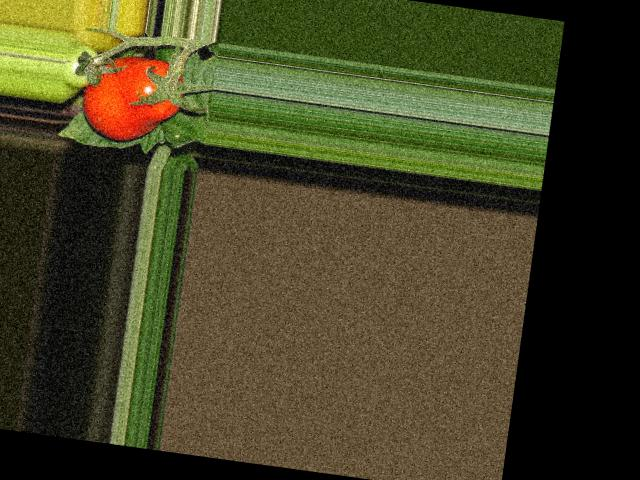tomato: (78, 50, 187, 148)
